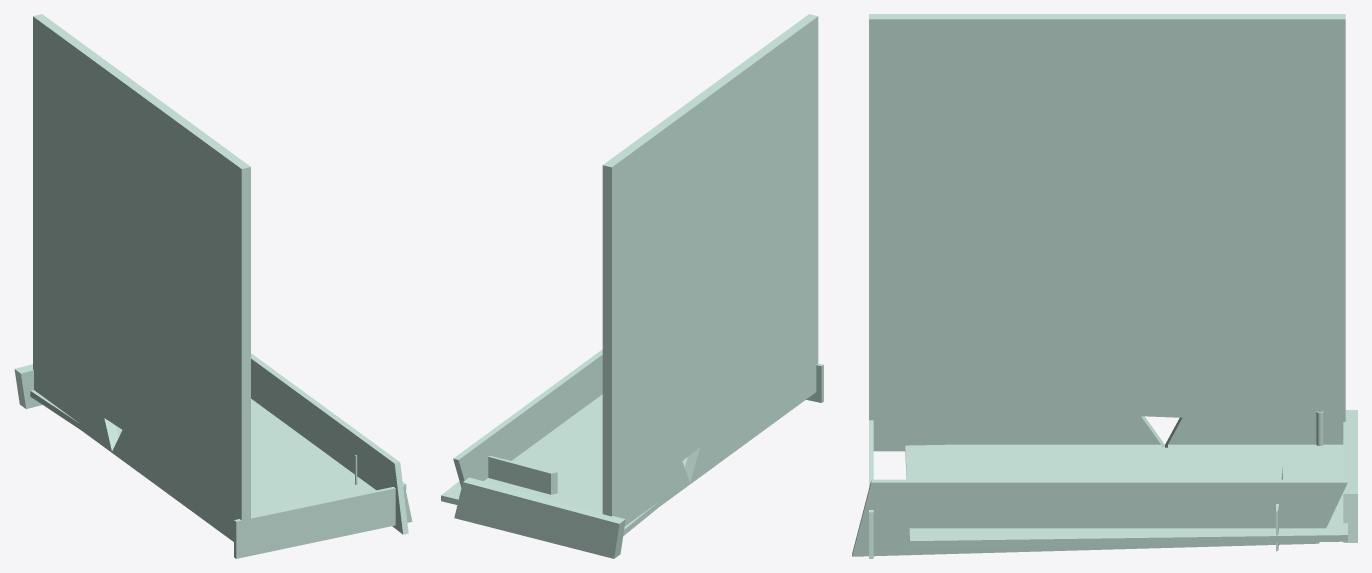
The picture shows the model from 3 angles, left to right: view 1: azimuth 30°, elevation 25°; view 2: azimuth 150°, elevation 25°; view 3: azimuth 270°, elevation 25°; orthographic projection. The views are drawn at different scales.
Visible parts, largest first — view 1: Renderer Node; view 2: Renderer Node; view 3: Renderer Node.
Part boxes in pixels (x1,y1,x2,y2): Renderer Node: [14, 14, 412, 558]; Renderer Node: [441, 14, 823, 558]; Renderer Node: [852, 14, 1357, 558].
Bounding box in the file's own units: 0.8234 × 1.6 × 1.62.
